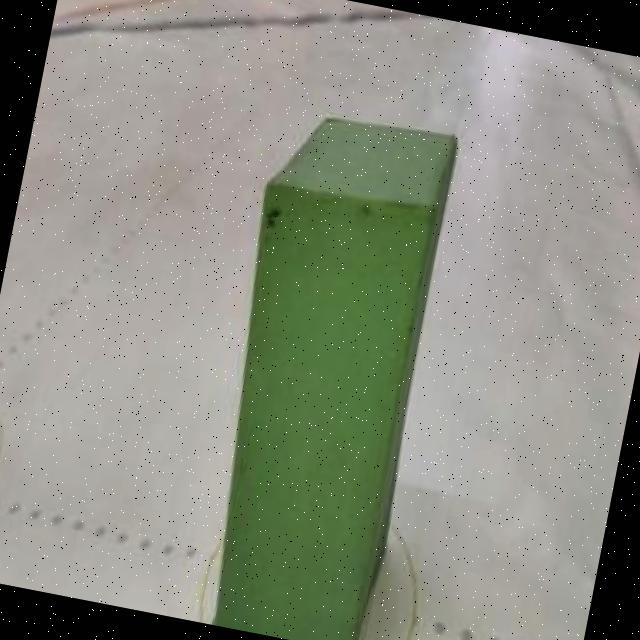greenbox: (179, 97, 461, 640)
